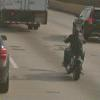Motorcycle: (57, 22, 86, 84)
